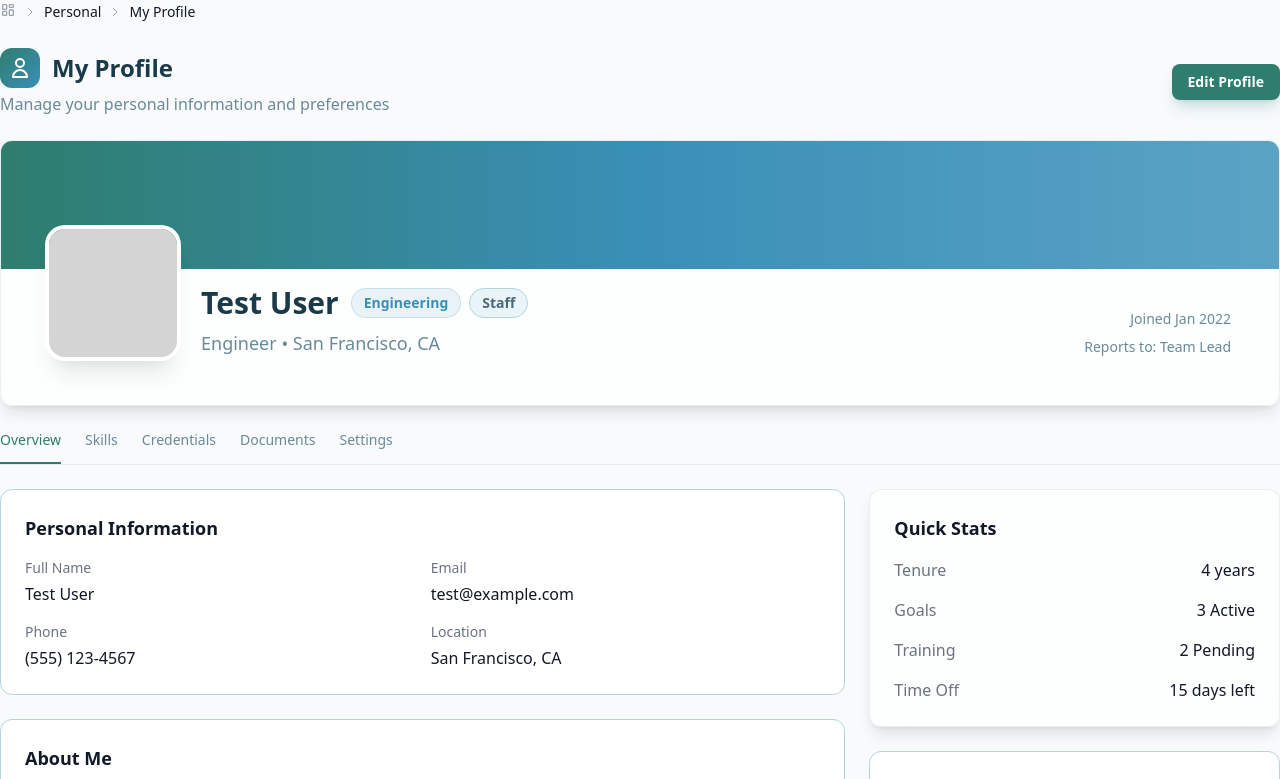
Scenario: Profile Component › opens avatar modal in edit mode
// Enter edit mode
Step 1. Click the button "Edit Profile" → (1226, 82), box x1=1172 y1=64 x2=1279 y2=100
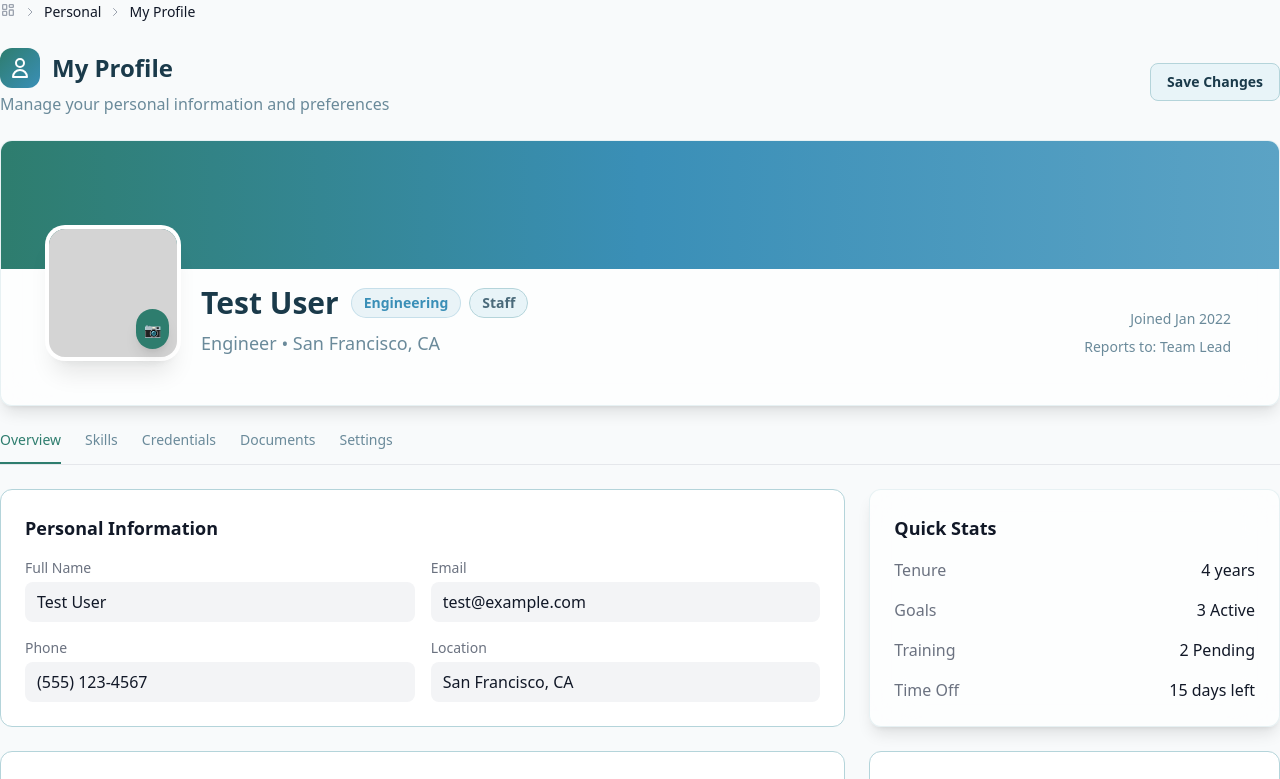
// Avatar button should be visible
Step 2. Click the button with test id "avatar-camera-button" → (152, 329), box x1=136 y1=309 x2=169 y2=349
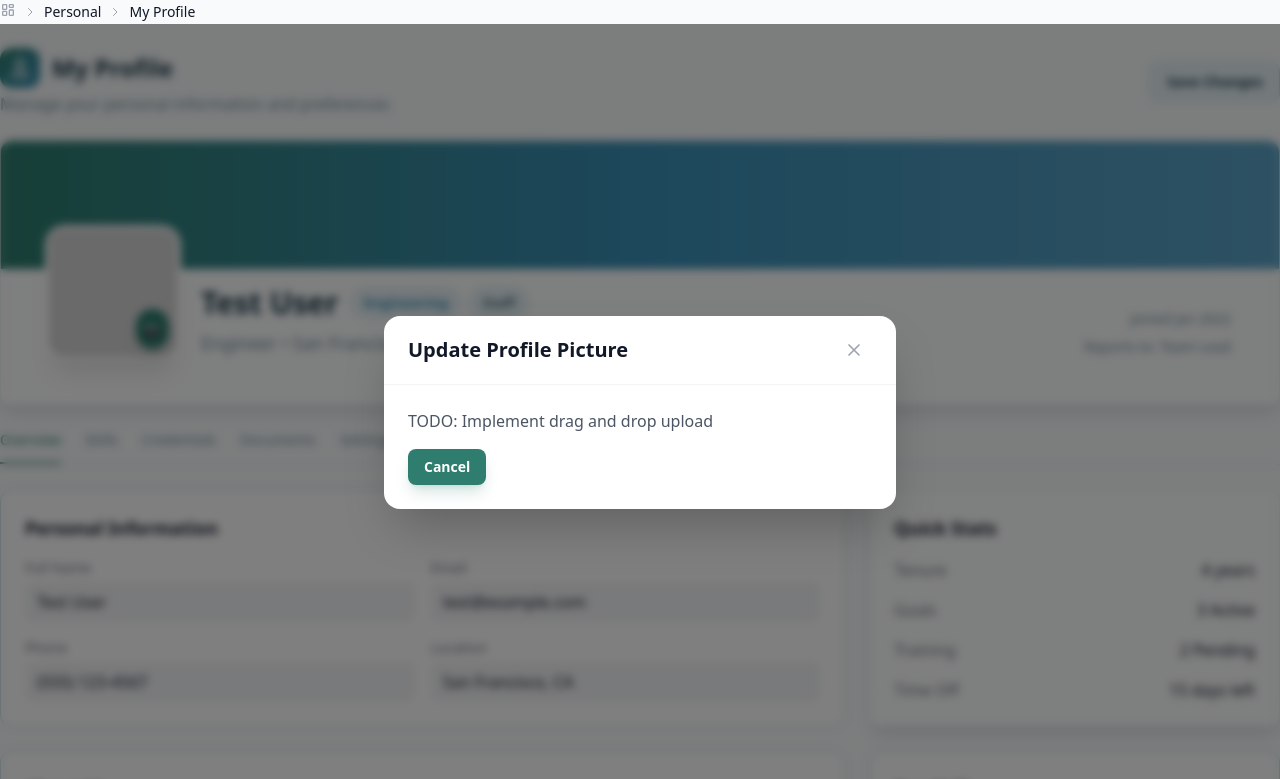
Expected: the heading "Update Profile Picture" is shown, x1=408 y1=336 x2=628 y2=364
